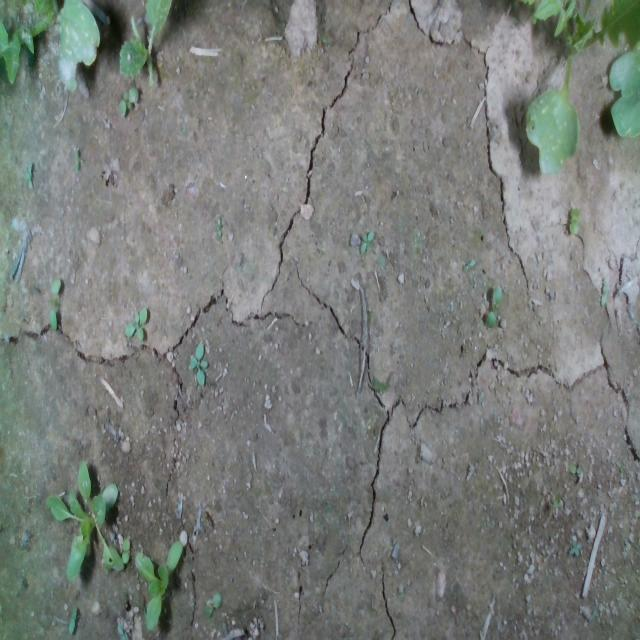weed: (189, 340, 208, 386), (123, 305, 147, 340), (47, 276, 61, 331), (484, 286, 502, 327), (118, 85, 138, 116), (206, 590, 222, 616), (360, 228, 374, 254), (568, 207, 580, 237), (24, 157, 34, 190), (568, 538, 581, 556), (122, 537, 130, 562), (74, 146, 80, 172), (569, 462, 581, 474), (216, 215, 222, 239)
